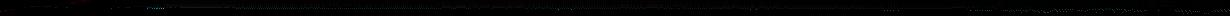Blue cone: (23, 7, 27, 8)
Yellow cone: (883, 5, 898, 7)
